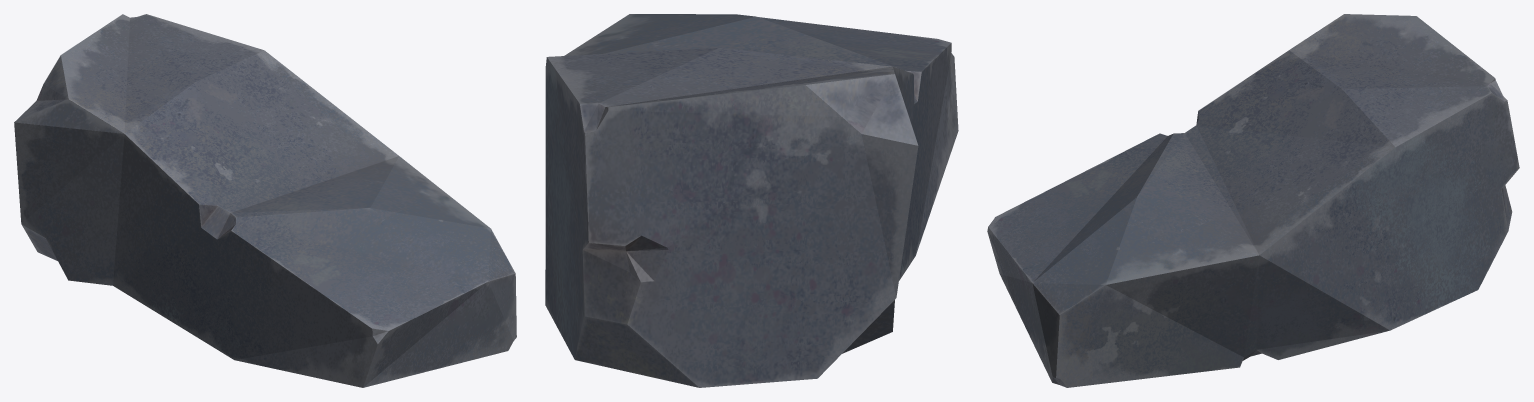
File: stylized_rock_59.fbx
3 renders of one model, left to right at view 1: azimuth 30°, elevation 25°; view 2: azimuth 150°, elevation 25°; view 3: azimuth 270°, elevation 25°, orthographic. The views are drawn at different scales.
Visible parts, largest first — view 1: stylized_rock_59; view 2: stylized_rock_59; view 3: stylized_rock_59.
Boxes of the visible parts, box(x1,y1,x2,y2) form: stylized_rock_59: box(14, 14, 516, 387); stylized_rock_59: box(545, 14, 958, 387); stylized_rock_59: box(987, 14, 1519, 387).
Bounding box in the file's own units: 201 × 134 × 266.
